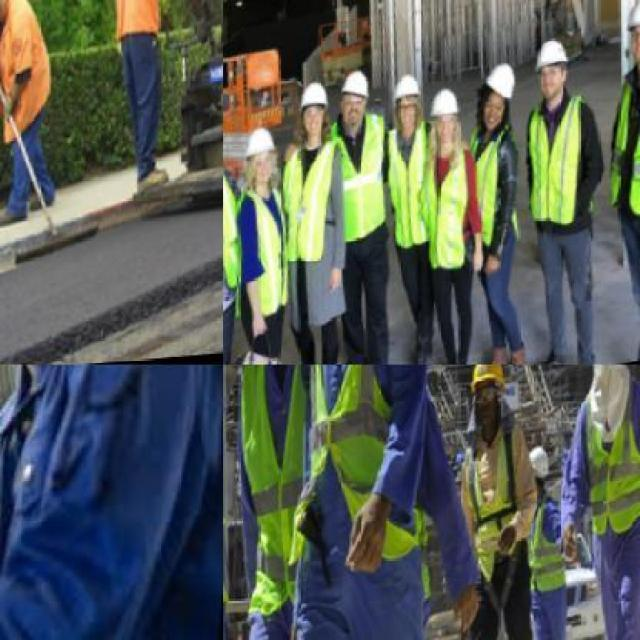hat: (482, 56, 530, 116), (530, 37, 582, 88), (243, 117, 289, 166), (342, 61, 384, 112), (297, 76, 343, 121), (429, 82, 469, 130), (389, 71, 431, 115), (472, 365, 518, 403), (534, 449, 563, 486), (223, 106, 237, 169), (623, 0, 639, 48)
